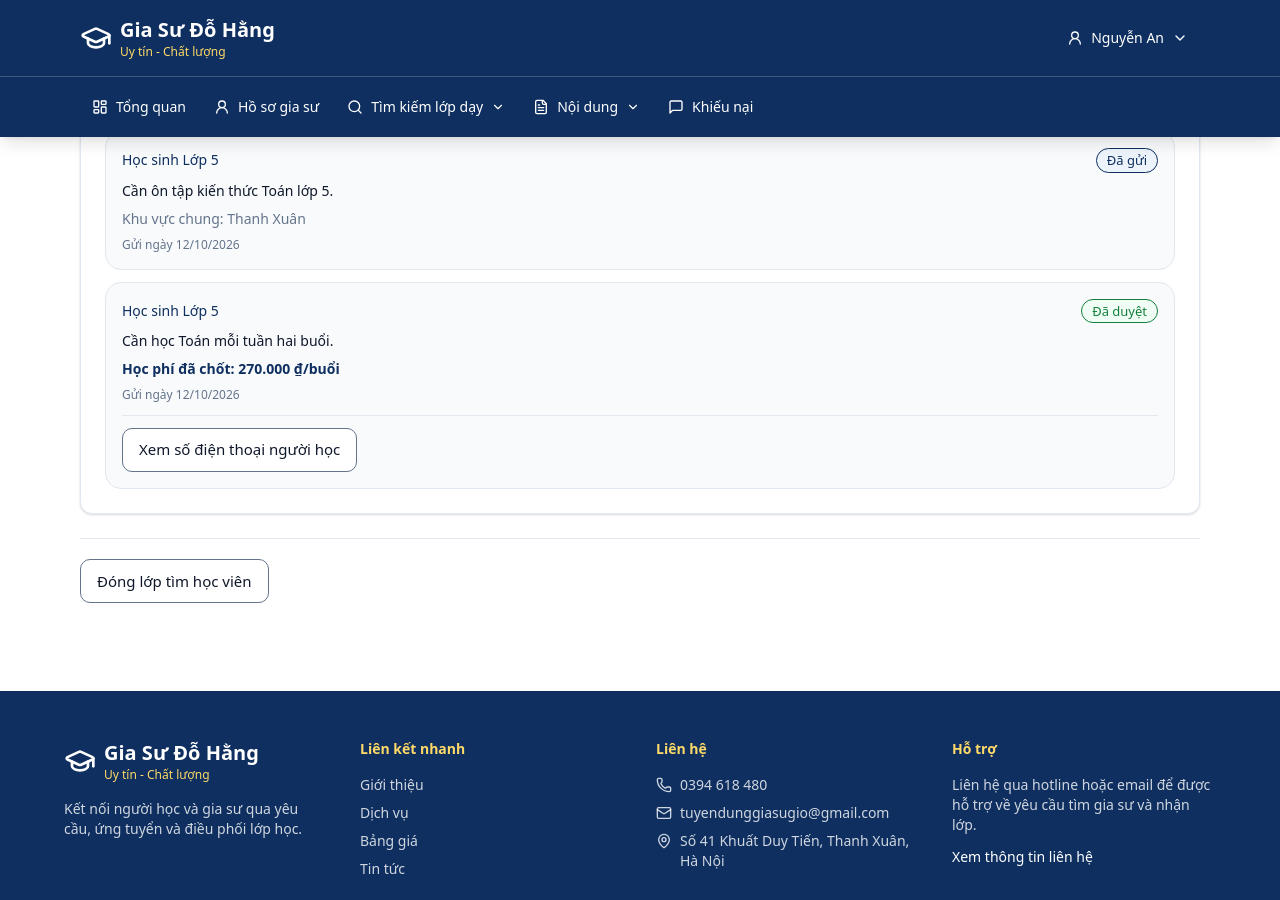
Test: parent joins tutor-posted class › shows consented study details to tutor and gates parent phone to approved joins
(page scrolled)
Expected: the text "Cần ôn tập kiến thức Toán lớp 5." is shown, [122,181,333,200]
Expected: the text "Học phí đã chốt: 270.000 ₫/buổi" is shown, [122,359,340,378]
Click the button "Xem số điện thoại người học": (240, 450) [122,428,357,472]
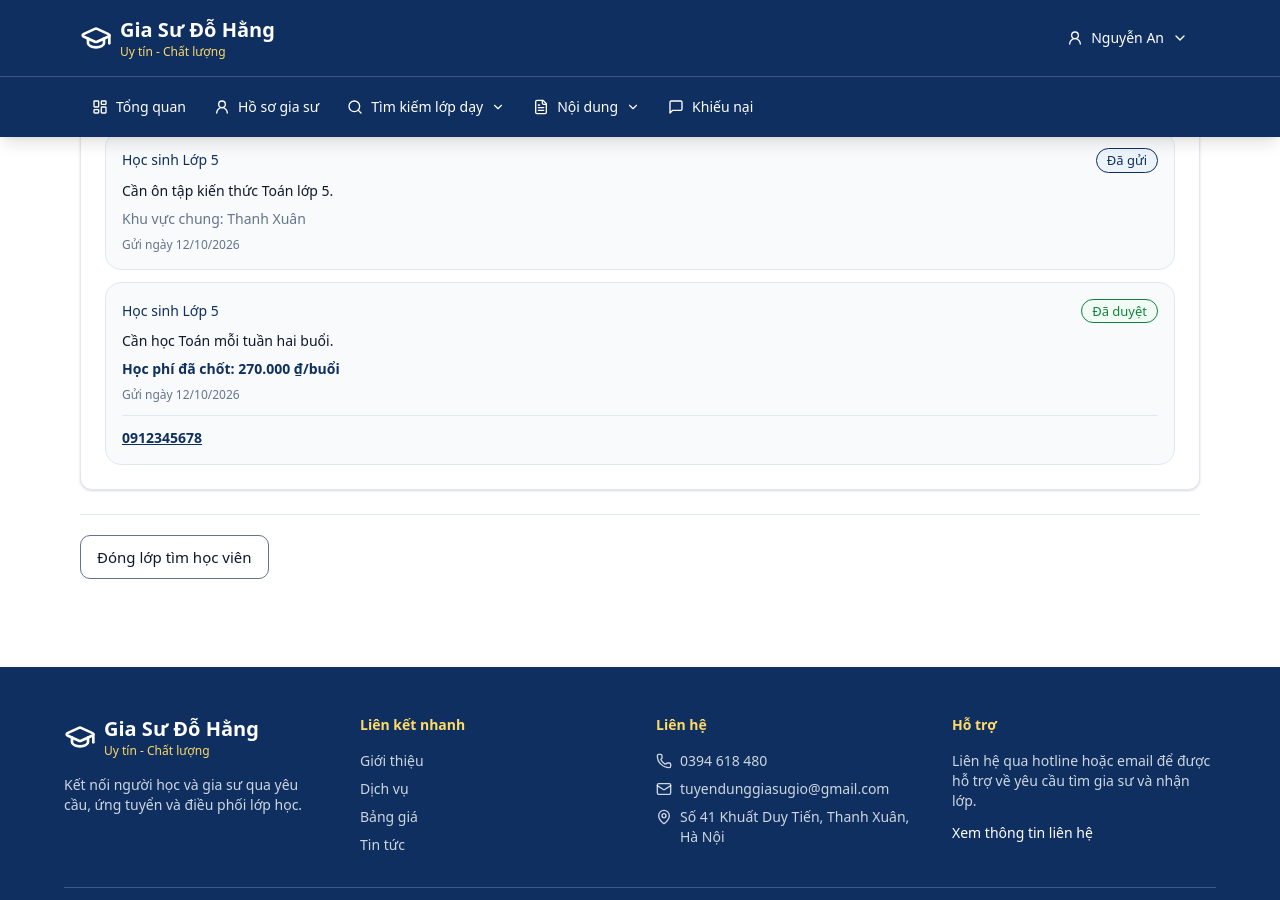
Expected: the link "0912345678" is shown, [122,428,202,447]
